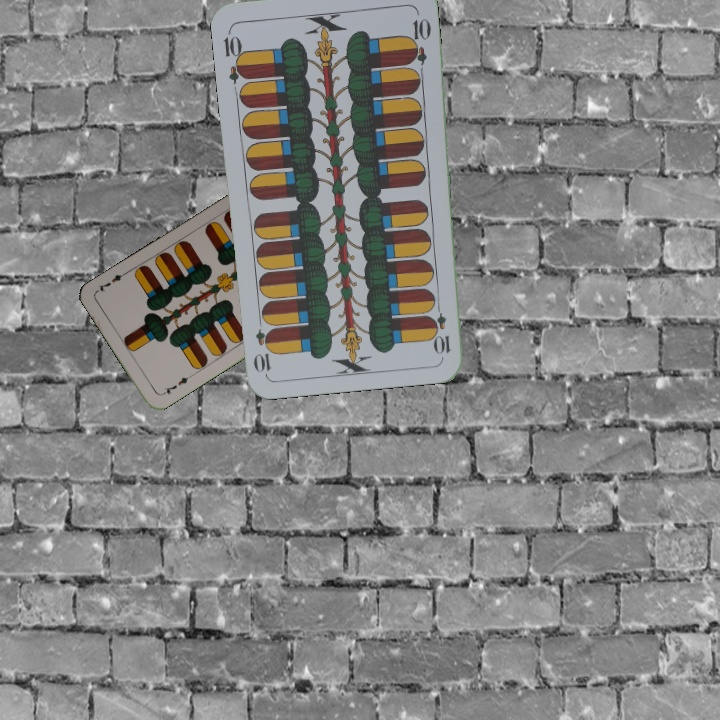E10: (220, 26, 249, 85), (430, 298, 453, 357)
E7: (157, 372, 194, 398)
